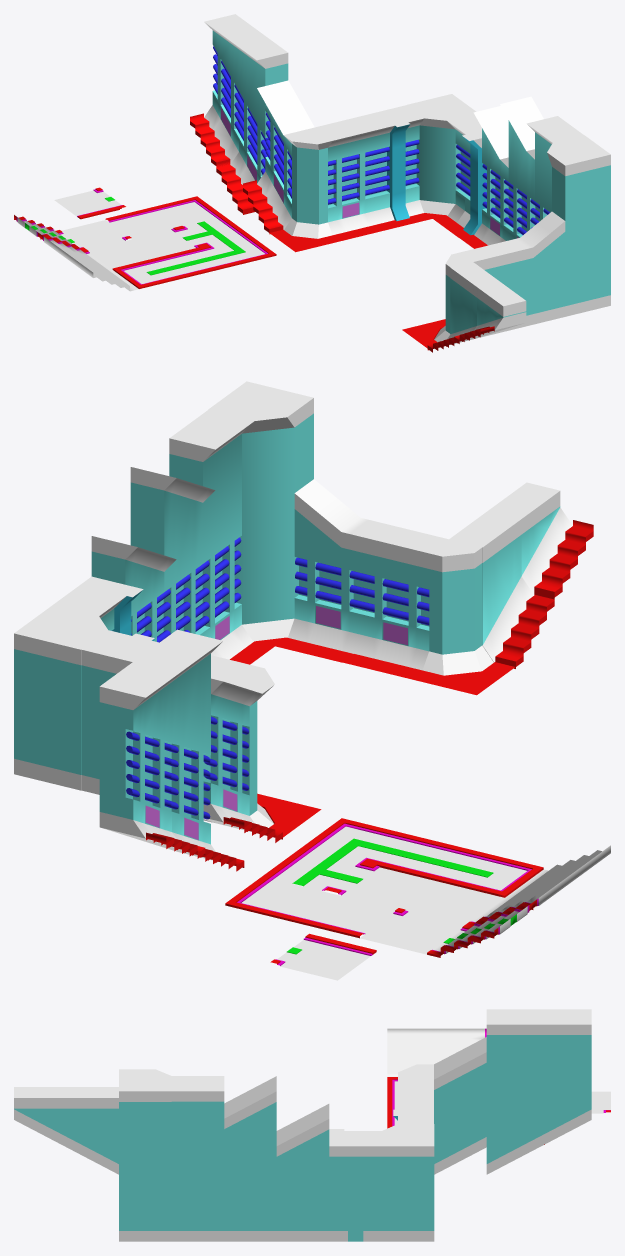
The model's file is FloorNWalls.fbx.
3 renders of one model, top to bottom at view 1: azimuth 30°, elevation 25°; view 2: azimuth 150°, elevation 25°; view 3: azimuth 270°, elevation 25°, orthographic. The views are drawn at different scales.
Visible parts, largest first — view 1: ClosedTurnTall001, BaseAngledTall001, Column001, Base002, BaseAngled001, BaseAngledMid001, ClosedTurn001, OpenTurn001, BaseToLow001, BaseToMid001, BaseToTall001, Ending001 (+18 smaller); view 2: ClosedTurnTall001, BaseAngledMid001, ClosedTurn001, BaseTall001, BaseToLow001, BaseLow001, BaseAngledTall001, OpenTurnLow001, BaseToTall001, LowToMid001, LowToBase001, BaseAngled001 (+17 smaller); view 3: ClosedTurnTall001, BaseTall001, BaseAngledTall001, BaseToTall001, BaseToMid001, BaseAngledMid001, ClosedTurn001, Ending001, BaseAngled001, LowToMid001, LowToBase001, StairsLow001 (+5 smaller).
Part boxes in pixels (x1=…): ClosedTurnTall001: x1=547, y1=135, x2=610, y2=316; BaseAngledTall001: x1=216, y1=33, x2=288, y2=214; Column001: x1=361, y1=105, x2=432, y2=229; Base002: x1=315, y1=116, x2=386, y2=240; BaseAngled001: x1=243, y1=80, x2=314, y2=234; BaseAngledMid001: x1=190, y1=14, x2=261, y2=165; ClosedTurn001: x1=406, y1=94, x2=476, y2=218; OpenTurn001: x1=269, y1=127, x2=340, y2=252; BaseToLow001: x1=506, y1=211, x2=565, y2=327; BaseToMid001: x1=460, y1=106, x2=513, y2=248; BaseToTall001: x1=500, y1=96, x2=543, y2=240; Ending001: x1=433, y1=114, x2=486, y2=237; ClosedTurnTall001: x1=208, y1=381, x2=313, y2=646; BaseAngledMid001: x1=99, y1=658, x2=205, y2=858; ClosedTurn001: x1=14, y1=605, x2=107, y2=790; BaseTall001: x1=169, y1=410, x2=274, y2=664; BaseToLow001: x1=275, y1=479, x2=380, y2=662; BaseLow001: x1=343, y1=523, x2=448, y2=678; BaseAngledTall001: x1=139, y1=629, x2=244, y2=871; OpenTurnLow001: x1=410, y1=539, x2=514, y2=695; BaseToTall001: x1=130, y1=467, x2=215, y2=639; LowToMid001: x1=449, y1=511, x2=554, y2=668; LowToBase001: x1=488, y1=482, x2=593, y2=599; BaseAngled001: x1=203, y1=678, x2=282, y2=842; ClosedTurnTall001: x1=119, y1=1069, x2=171, y2=1241; BaseTall001: x1=171, y1=1076, x2=224, y2=1241; BaseAngledTall001: x1=486, y1=1009, x2=539, y2=1174; BaseToTall001: x1=224, y1=1076, x2=276, y2=1241; BaseToMid001: x1=276, y1=1104, x2=329, y2=1241; BaseAngledMid001: x1=539, y1=1009, x2=591, y2=1146; ClosedTurn001: x1=382, y1=1124, x2=434, y2=1241; Ending001: x1=329, y1=1129, x2=381, y2=1241; BaseAngled001: x1=434, y1=1037, x2=486, y2=1174; LowToMid001: x1=66, y1=1087, x2=118, y2=1174; LowToBase001: x1=14, y1=1087, x2=66, y2=1147; StairsLow001: x1=387, y1=1028, x2=439, y2=1076.
Size of the model in its own units: 658 by 248 by 894.
